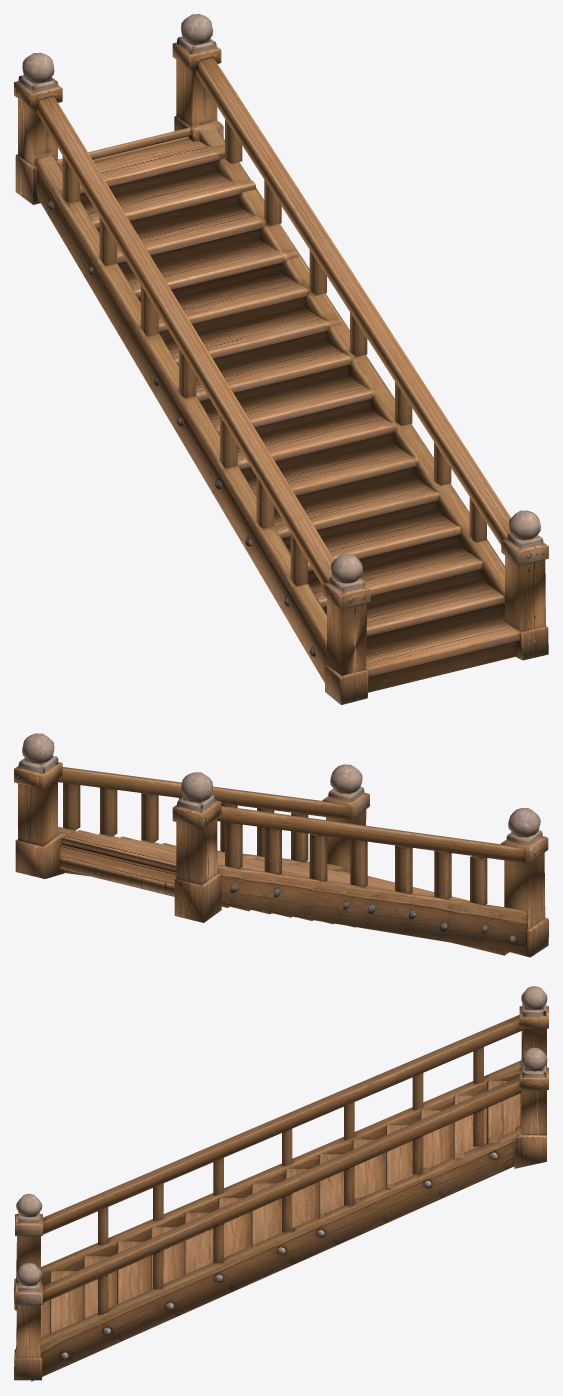
The model's file is Furn_Beach_Stairs.fbx.
The picture shows the model from 3 angles, top to bottom: view 1: azimuth 30°, elevation 25°; view 2: azimuth 150°, elevation 25°; view 3: azimuth 270°, elevation 25°; orthographic projection. The views are drawn at different scales.
Visible parts, largest first — view 1: Furn_Beach_Stairs; view 2: Furn_Beach_Stairs; view 3: Furn_Beach_Stairs.
Boxes of the visible parts, <box> form: Furn_Beach_Stairs: <box>14,14,548,704</box>; Furn_Beach_Stairs: <box>14,733,548,957</box>; Furn_Beach_Stairs: <box>14,986,548,1381</box>.
Bounding box in the file's own units: 2.14 × 4 × 5.97.
1 material, 1 textured.
